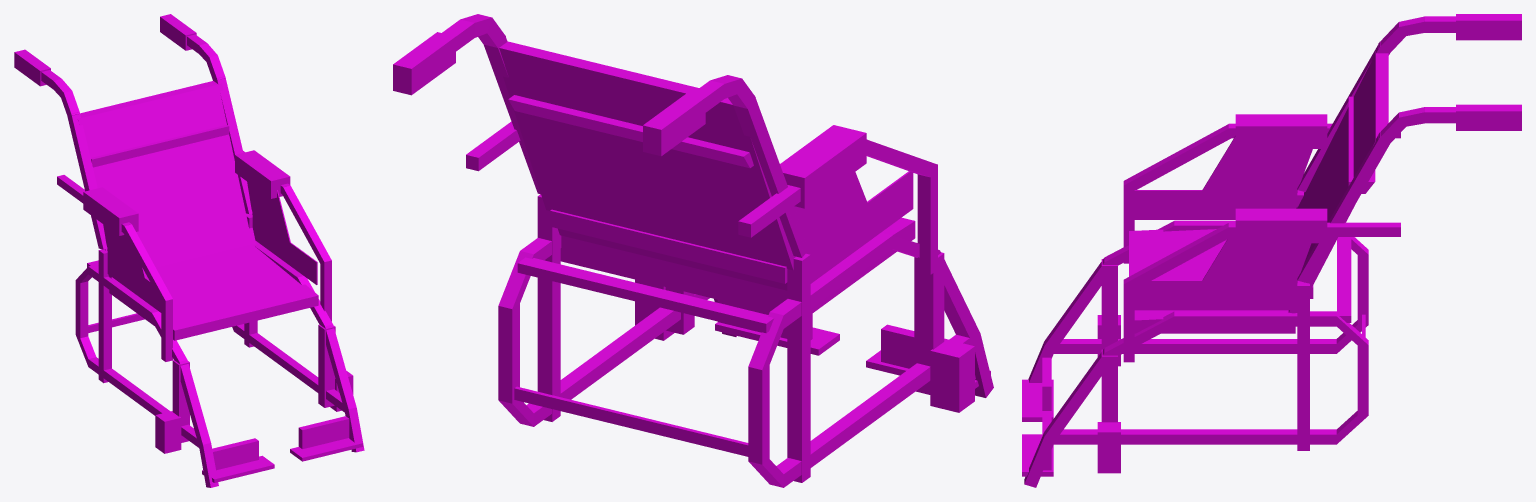
The model's file is SM_WheelChairCollider.fbx.
3 renders of one model, left to right at view 1: azimuth 30°, elevation 25°; view 2: azimuth 150°, elevation 25°; view 3: azimuth 270°, elevation 25°, orthographic. The views are drawn at different scales.
Parts seen in each view (by area): view 1: WheelChairCollision; view 2: WheelChairCollision; view 3: WheelChairCollision.
Boxes of the visible parts, x1,y1,x2,y2 form: WheelChairCollision: [14, 14, 364, 487]; WheelChairCollision: [393, 14, 993, 487]; WheelChairCollision: [1022, 14, 1521, 487].
Bounding box in the file's own units: 82.42 × 123 × 148.
